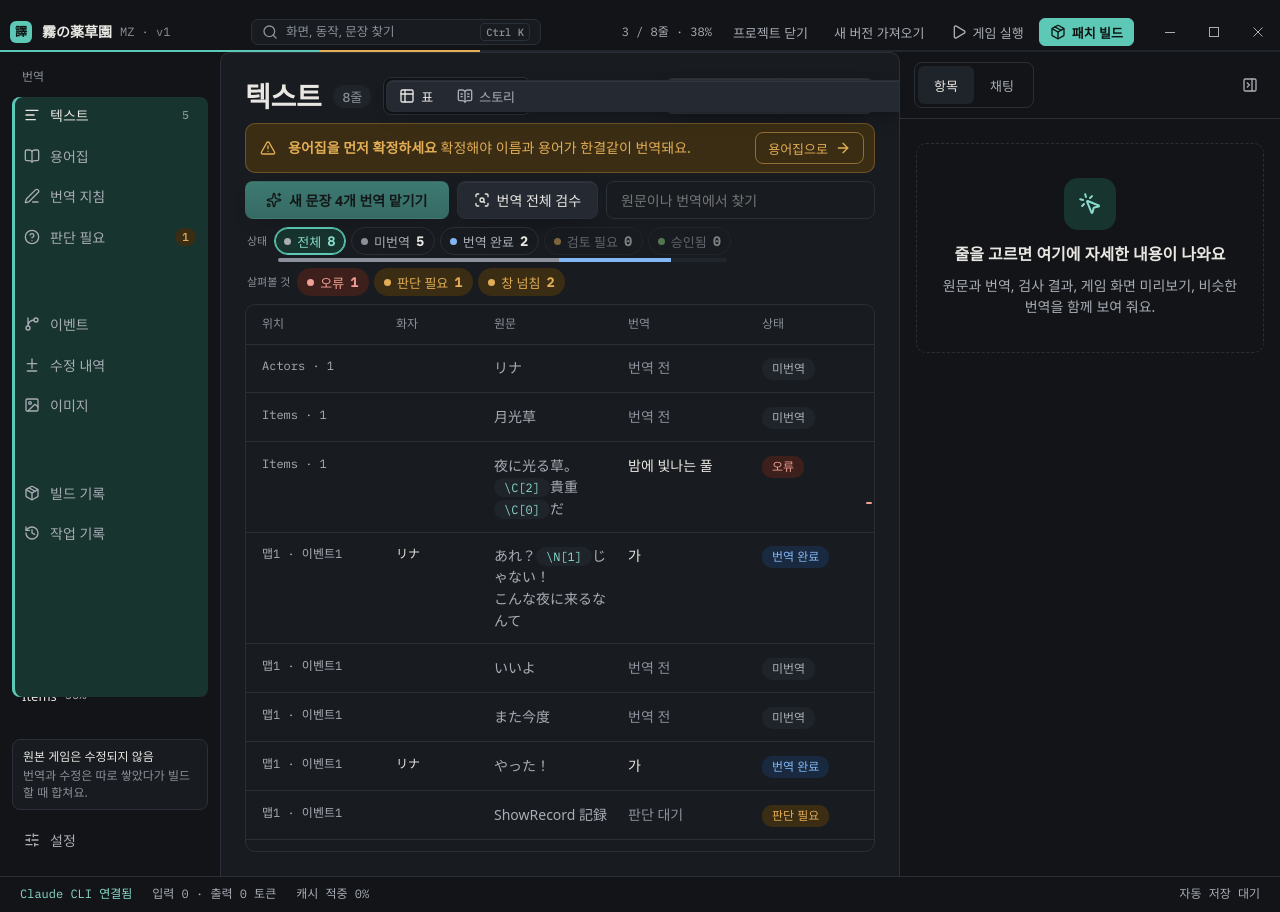
목록: 창 넘침 필터와 보이는 줄만 다시 맞추기
The image size is (1280, 912).
Check: the text "霧の薬草園" is shown, box [42, 21, 112, 43]
Click the button "창 넘침 2": [522, 282] box [478, 268, 565, 296]
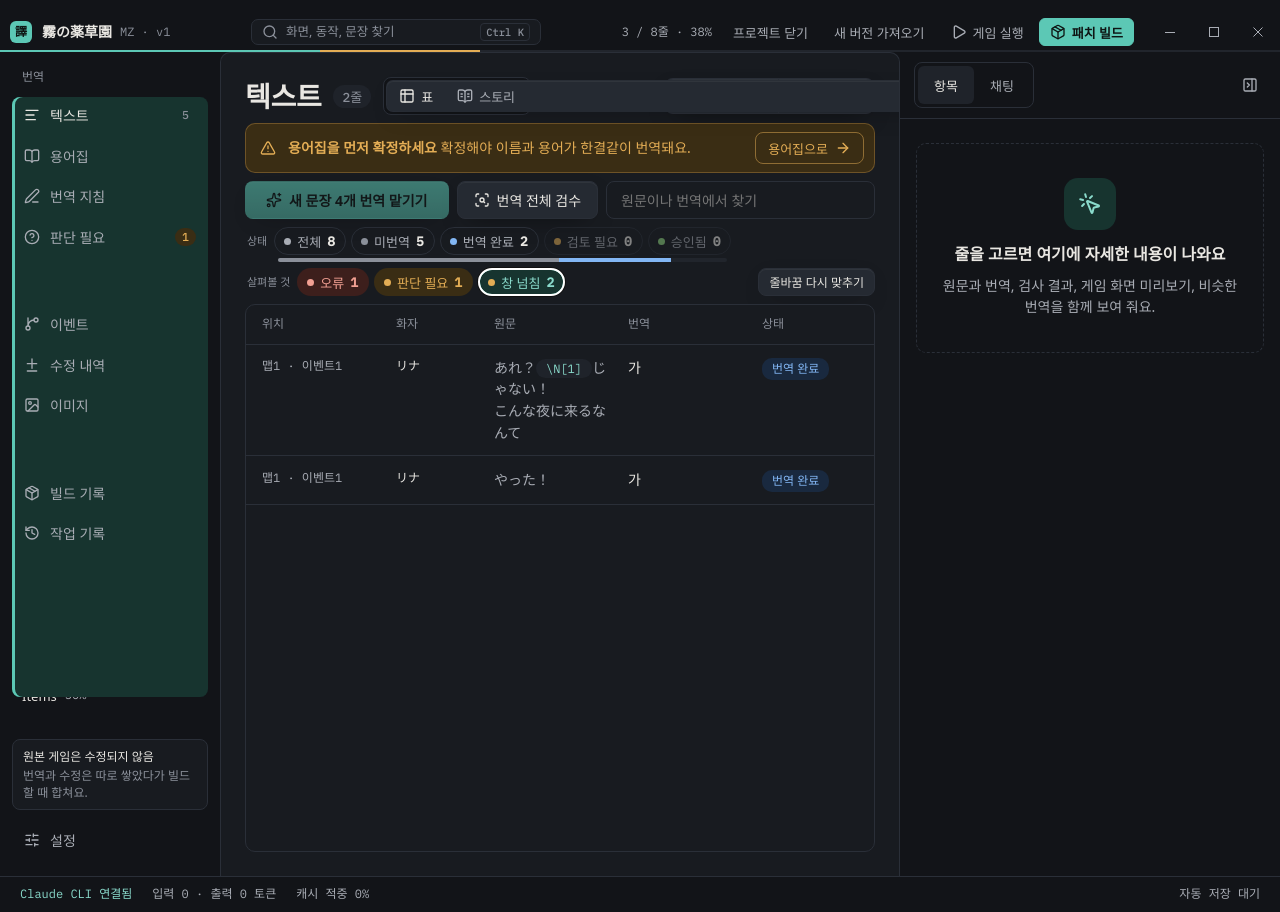
Check: the text "2줄" is shown, box [334, 84, 371, 108]
Click the button "줄바꿈 다시 맞추기": [817, 282] box [758, 268, 875, 296]
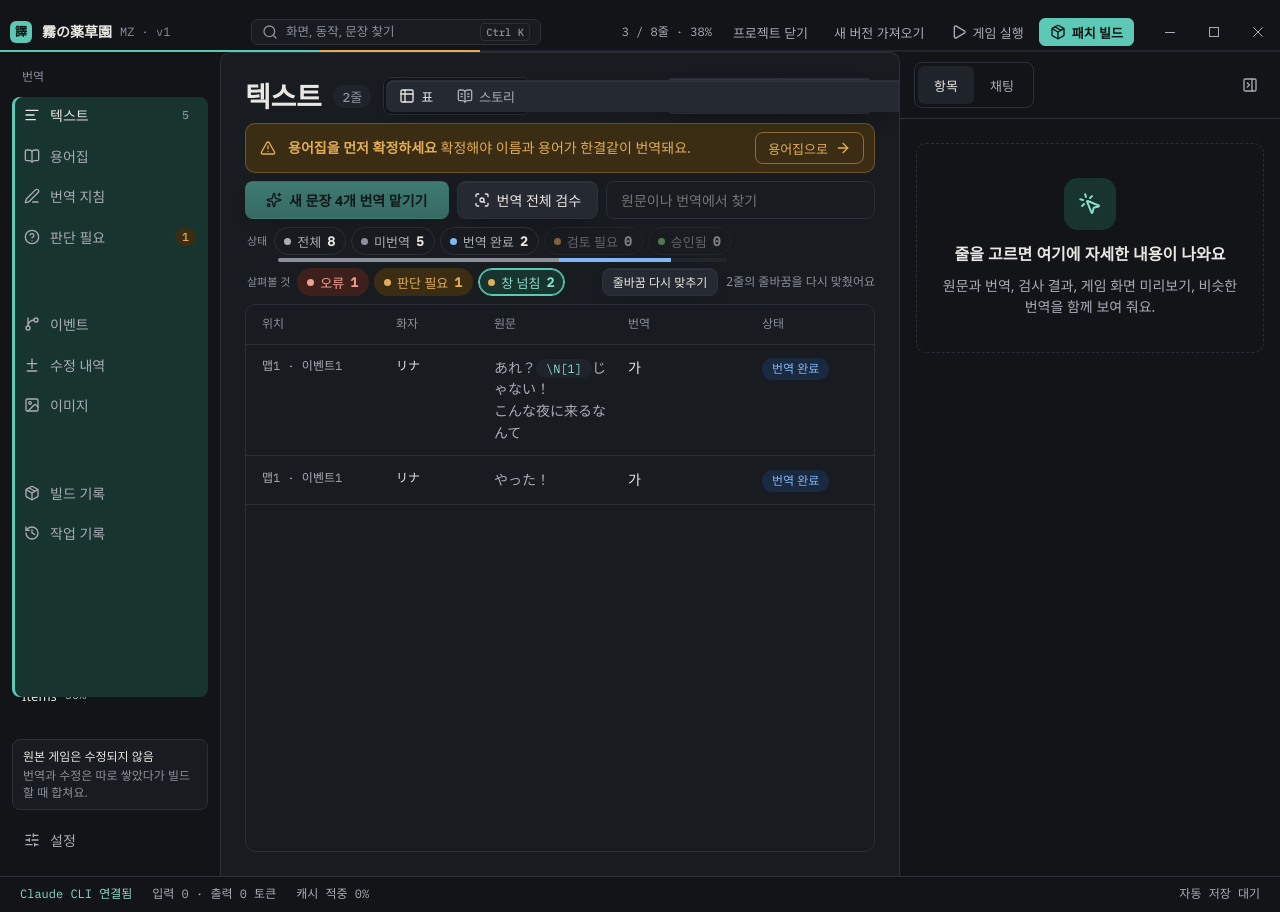
Check: the text "2줄의 줄바꿈을 다시 맞췄어요" is shown, box [726, 273, 875, 291]
